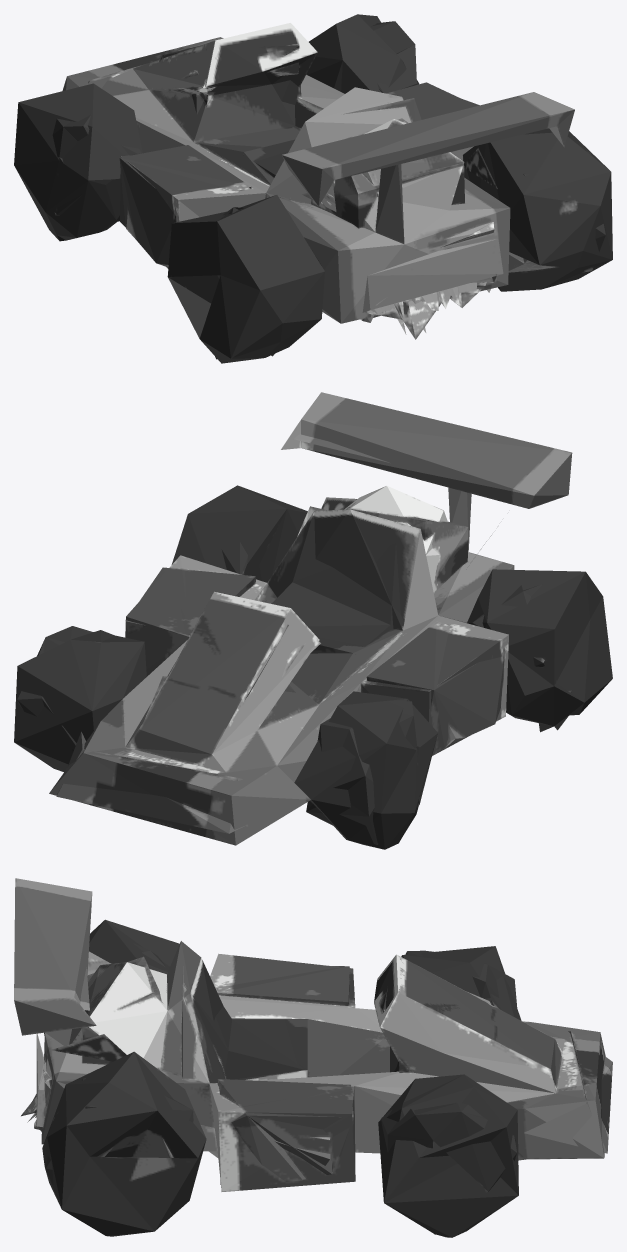
File: go-kart.glb
3 renders of one model, top to bottom at view 1: azimuth 30°, elevation 25°; view 2: azimuth 150°, elevation 25°; view 3: azimuth 270°, elevation 25°, orthographic. The views are drawn at different scales.
Visible parts, largest first — view 1: world; view 2: world; view 3: world.
Part boxes in pixels (x1,y1,x2,y2): world: [14, 14, 612, 363]; world: [14, 392, 612, 849]; world: [14, 878, 612, 1237].
Bounding box in the file's own units: 1.01 × 0.575 × 1.4.
Materials: 1 (1 with a texture image).
